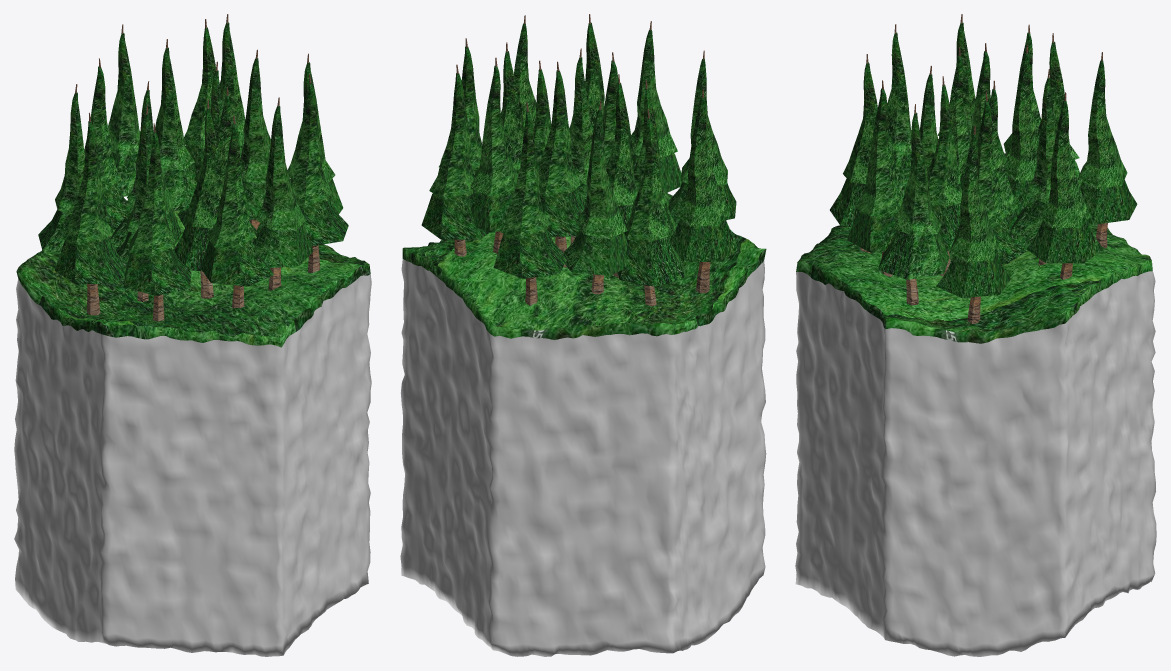
The model's file is Forest.fbx.
3 views of the same model, side by side, from view 1: azimuth 30°, elevation 25°; view 2: azimuth 150°, elevation 25°; view 3: azimuth 270°, elevation 25° (orthographic). The views are drawn at different scales.
Parts seen in each view (by area): view 1: Forest, tree?.011, tree?.008, tree?.009, tree?.016, tree?.007, tree?.014, tree?.003, tree?.005, tree?.001, tree?.002, tree?.010 (+7 smaller); view 2: Forest, tree?.001, tree?.011, tree?.010, tree?.002, tree?, tree?.003, tree?.012, tree?.008, tree?.013, tree?.009, tree?.006 (+7 smaller); view 3: Forest, tree?.007, tree?.017, tree?, tree?.001, tree?.016, tree?.006, tree?.003, tree?.005, tree?.008, tree?.012, tree?.009 (+7 smaller).
Boxes of the visible parts, x1,y1,x2,y2 form: Forest: [14, 210, 371, 656]; tree?.011: [54, 112, 126, 315]; tree?.008: [200, 115, 273, 308]; tree?.009: [124, 123, 191, 321]; tree?.016: [252, 97, 313, 290]; tree?.007: [292, 74, 348, 272]; tree?.014: [174, 99, 222, 298]; tree?.003: [127, 39, 197, 210]; tree?.005: [240, 49, 270, 229]; tree?.001: [108, 24, 140, 196]; tree?.002: [38, 84, 85, 253]; tree?.010: [84, 58, 130, 236]; Forest: [400, 193, 766, 656]; tree?.001: [493, 102, 567, 305]; tree?.011: [669, 89, 740, 293]; tree?.010: [563, 100, 627, 294]; tree?.002: [617, 109, 686, 306]; tree?: [421, 64, 489, 256]; tree?.003: [538, 61, 585, 267]; tree?.012: [469, 57, 518, 253]; tree?.008: [631, 21, 682, 192]; tree?.013: [606, 74, 638, 277]; tree?.009: [668, 50, 736, 220]; tree?.006: [569, 48, 592, 244]; Forest: [795, 216, 1156, 656]; tree?.007: [878, 104, 949, 305]; tree?.017: [936, 126, 1010, 323]; tree?: [1026, 92, 1103, 279]; tree?.001: [1077, 52, 1137, 248]; tree?.016: [847, 80, 903, 276]; tree?.006: [927, 76, 962, 275]; tree?.003: [1004, 44, 1039, 241]; tree?.005: [951, 92, 1027, 264]; tree?.008: [830, 54, 877, 253]; tree?.012: [1011, 69, 1055, 265]; tree?.009: [887, 24, 911, 194].
Size of the model in its own units: 184 by 342 by 203.
